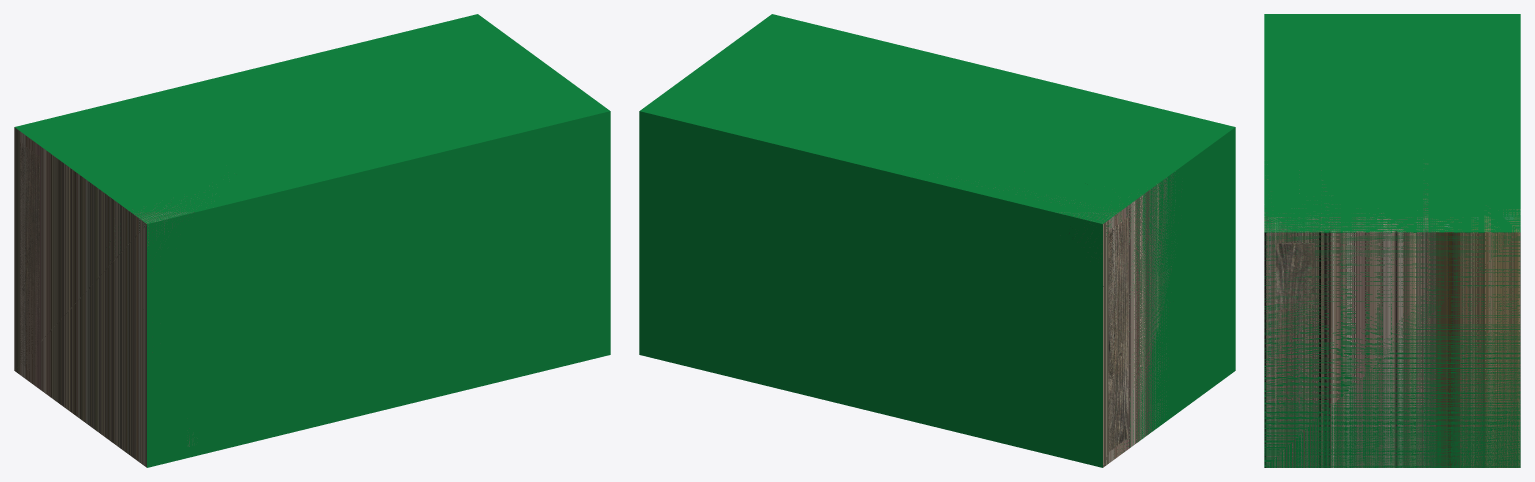
Rendered from crate_02.DAE.
3 views of the same model, side by side, from view 1: azimuth 30°, elevation 25°; view 2: azimuth 150°, elevation 25°; view 3: azimuth 270°, elevation 25° (orthographic). The views are drawn at different scales.
Parts seen in each view (by area): view 1: bounds, colbox-01, crate_two; view 2: bounds, colbox-01, crate_two; view 3: bounds, colbox-01, crate_two.
Part boxes in pixels (bbox=[...]): bounds: bbox=[15, 14, 610, 467]; colbox-01: bbox=[14, 127, 195, 467]; crate_two: bbox=[20, 142, 192, 446]; bounds: bbox=[639, 14, 1235, 467]; colbox-01: bbox=[954, 171, 1175, 467]; crate_two: bbox=[1108, 216, 1128, 452]; bounds: bbox=[1264, 14, 1520, 467]; colbox-01: bbox=[1264, 163, 1520, 467]; crate_two: bbox=[1275, 243, 1314, 367].
Bounding box in the file's own units: 164 × 81.48 × 82.6.
